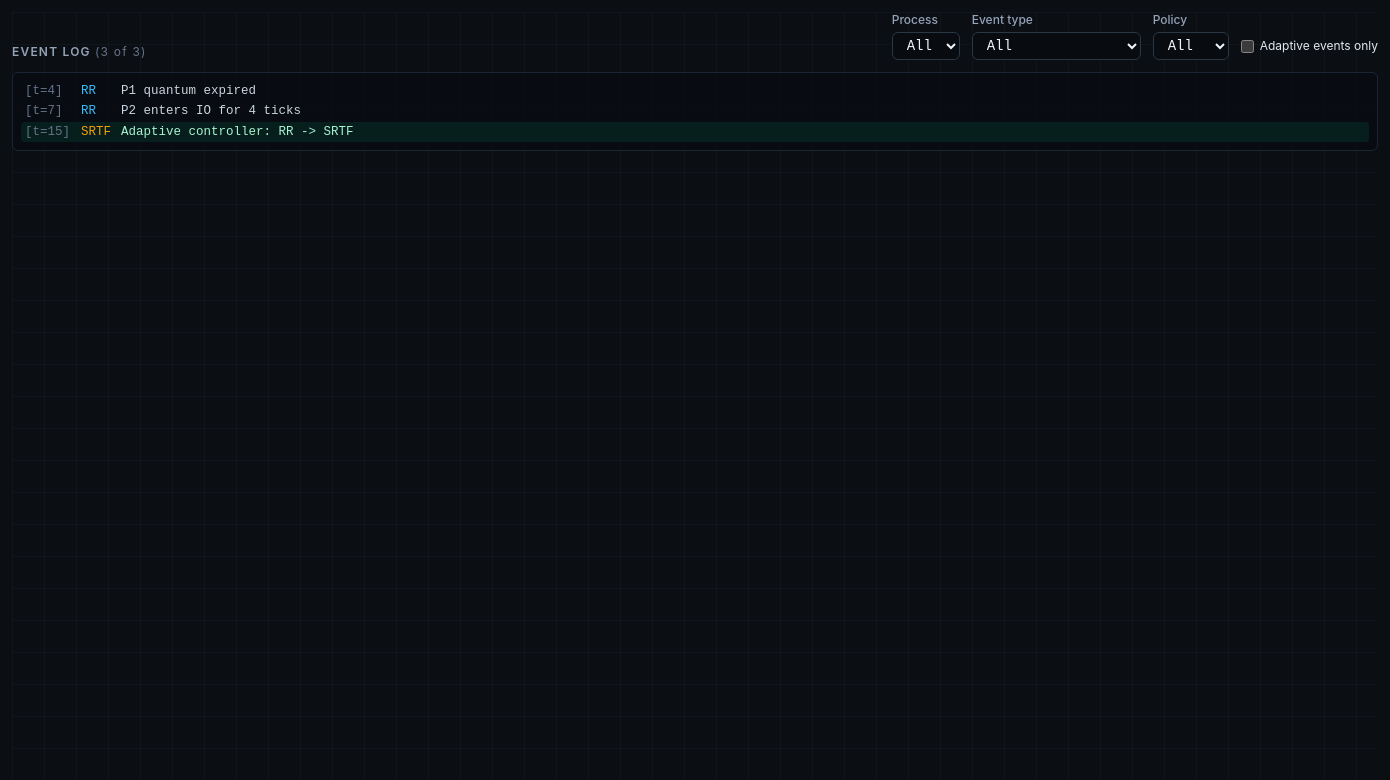
Test: EventLog › shows an empty state when filters exclude everything
The width and height of the screenshot is (1390, 780).
Select "P1" in the dropdown labelled "Process" at {"x": 926, "y": 46}, box [892,32,960,60]
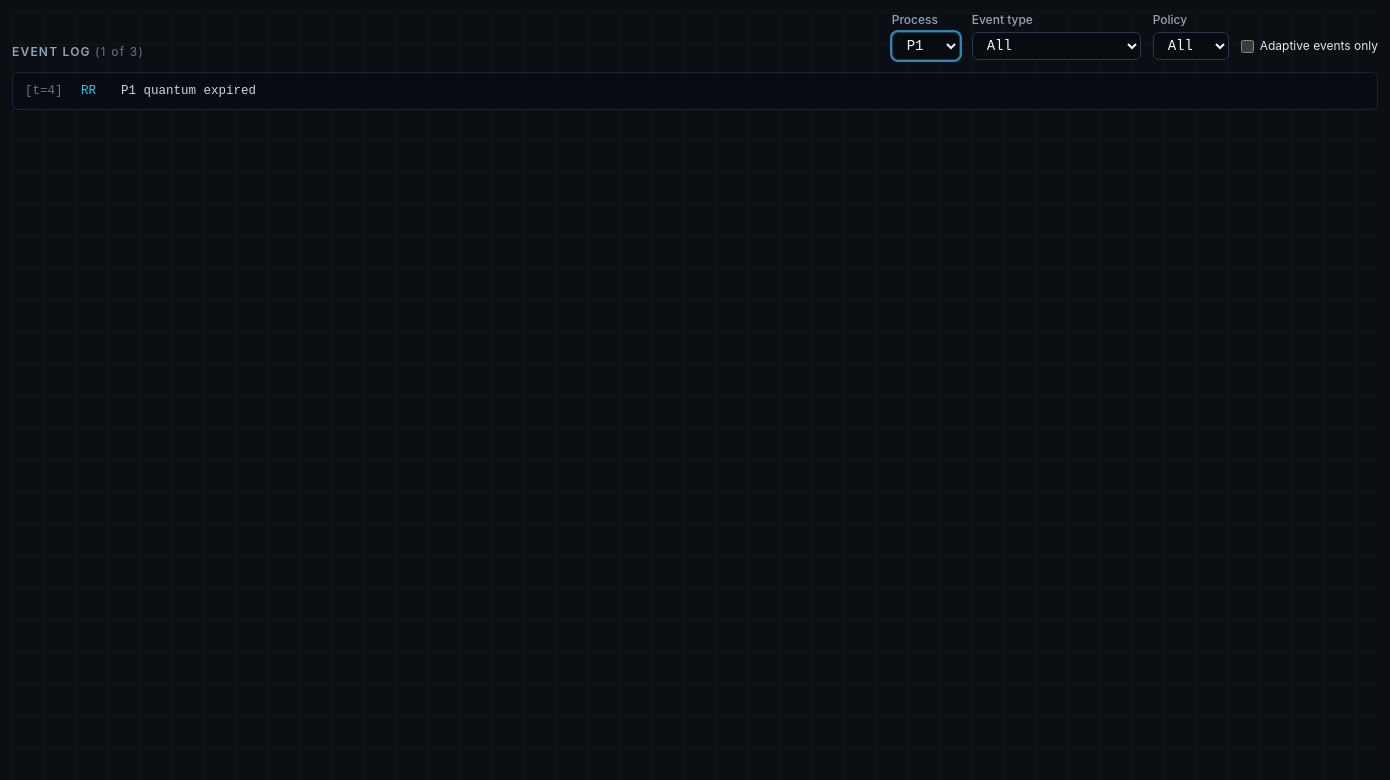
Click the checkbox labelled "Adaptive events only" at {"x": 1247, "y": 46}, box [1241,40,1254,52]
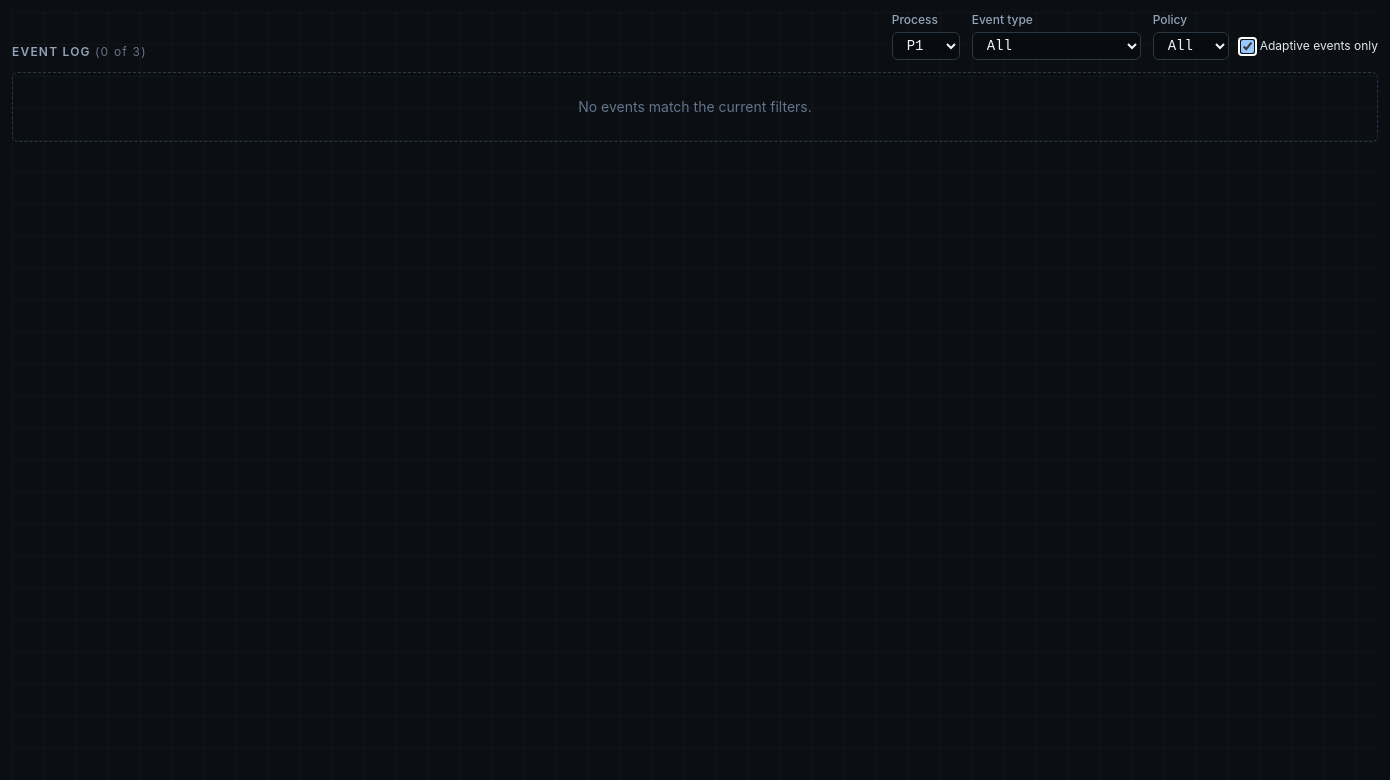
Result: the text "No events match the current filters." is shown at [12,72,1378,142]
